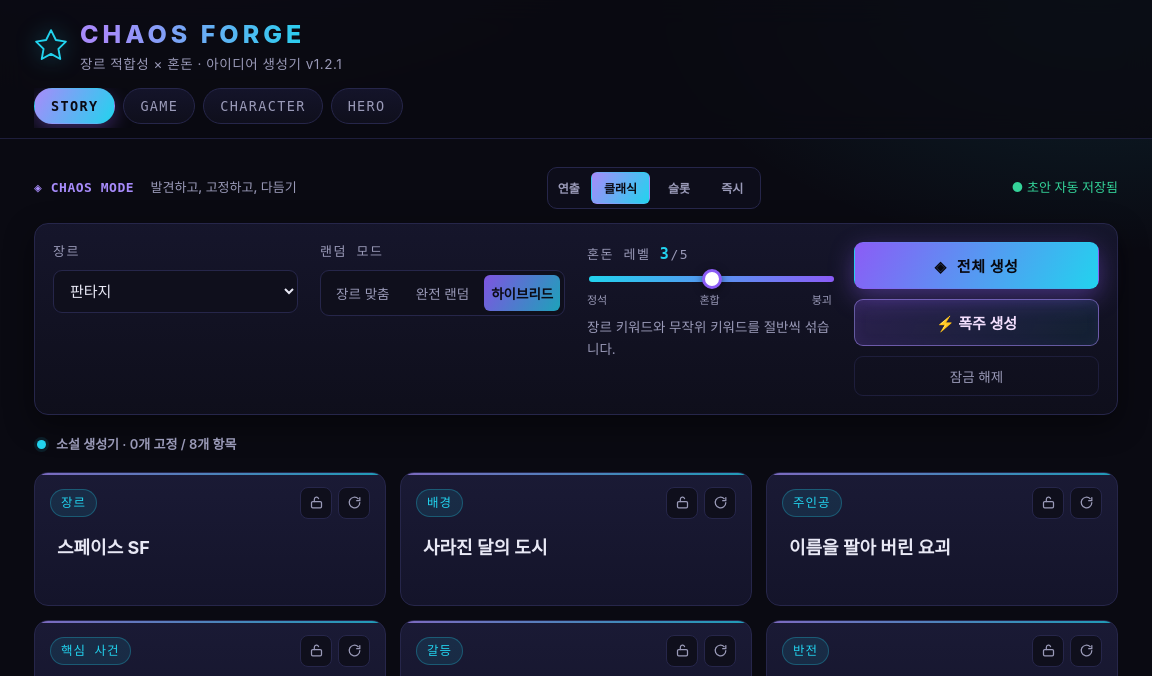
V1.2 CHAOS MODE › 직접 편집한 값은 콘셉트 프리뷰에도 바로 반영된다
The image size is (1152, 676).
Clear the field with class "card-value" showing "사라진 달의 도시": (485,547) [423, 537, 548, 558]
(page scrolled)
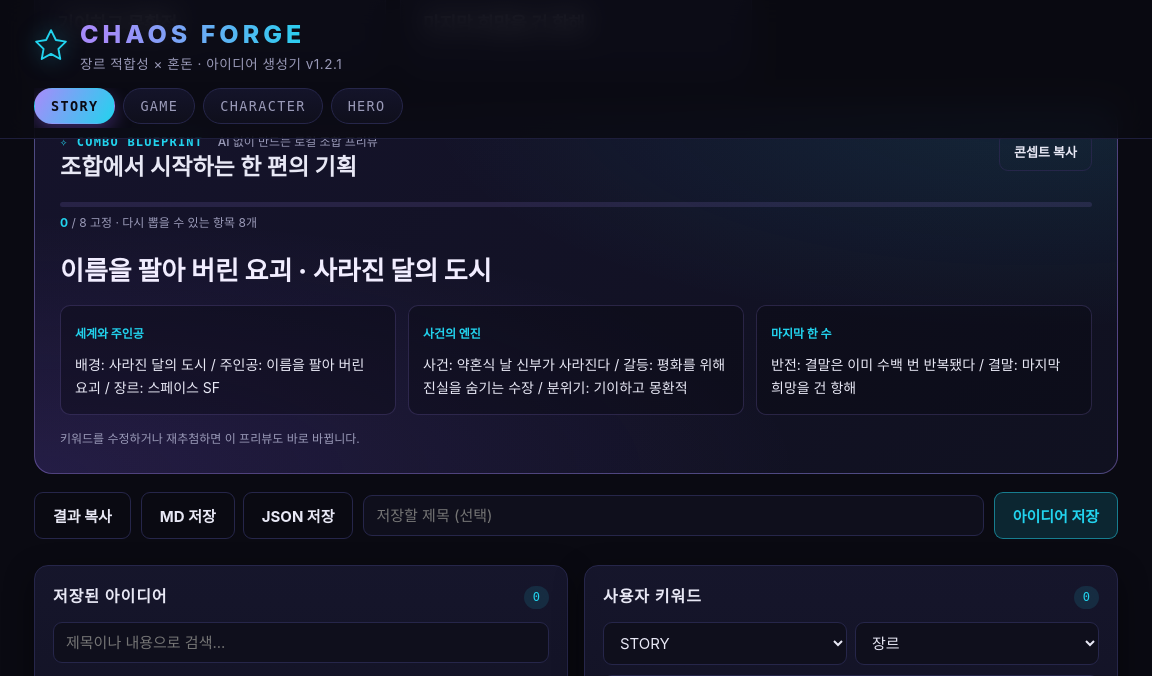
Expected: the element that starts with "세계와 주인공" is shown, [60, 305, 1092, 415]
Result: the element with class "concept-preview" shows "사라진 달의 도시" at [60, 255, 492, 286]
